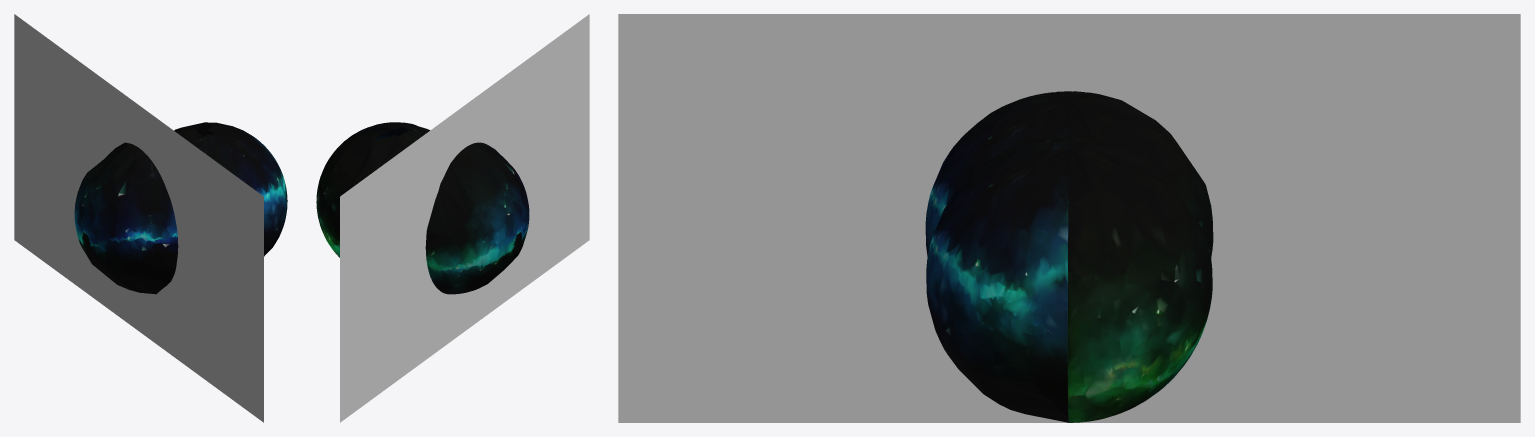
Rendered from horse_neb_vertex_col.fbx.
The picture shows the model from 3 angles, left to right: view 1: azimuth 30°, elevation 25°; view 2: azimuth 150°, elevation 25°; view 3: azimuth 270°, elevation 25°; orthographic projection. The views are drawn at different scales.
Visible parts, largest first — view 1: Plane, Curve.000, Curve.1533; view 2: Plane, Curve.000, Curve.1533; view 3: Plane, Curve.1533, Curve.000.
Boxes of the visible parts, left/top/right/bottom form: Plane: left=14, top=14, right=263, bottom=422; Curve.000: left=74, top=142, right=178, bottom=294; Curve.1533: left=174, top=122, right=287, bottom=256; Plane: left=340, top=14, right=589, bottom=422; Curve.000: left=425, top=142, right=529, bottom=294; Curve.1533: left=316, top=122, right=429, bottom=257; Plane: left=618, top=14, right=1520, bottom=422; Curve.1533: left=926, top=136, right=1212, bottom=422; Curve.000: left=925, top=91, right=1213, bottom=320.
Size of the model in its own units: 177 by 200 by 400.
